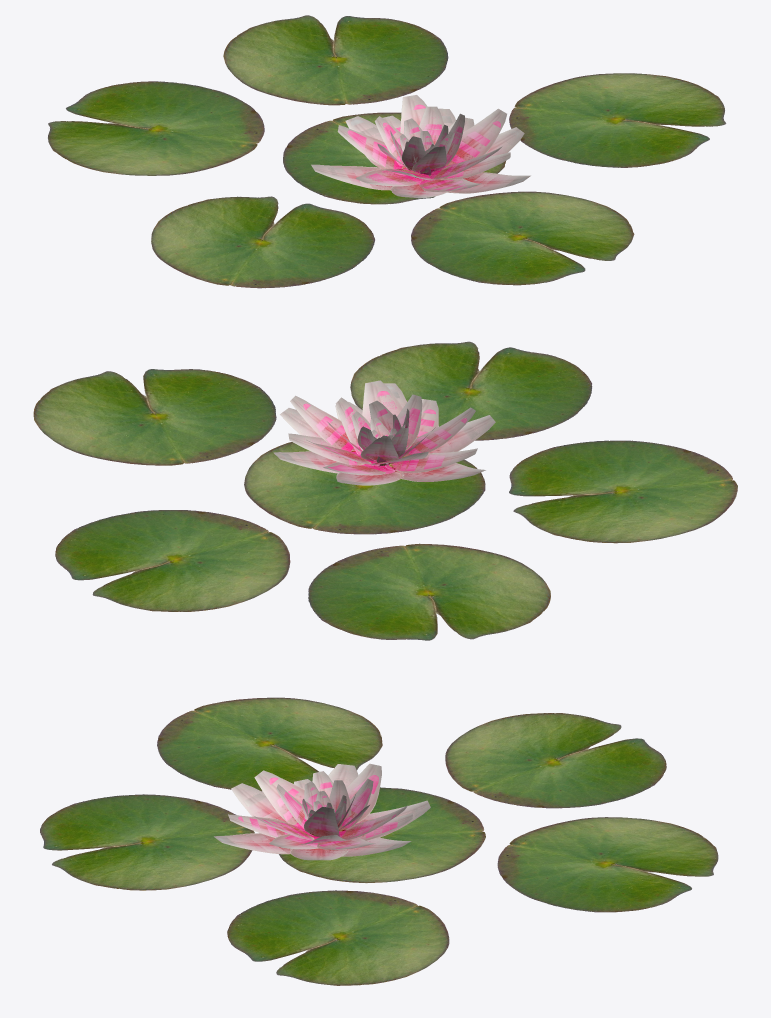
Rendered from Lokvanj sa cvetom.obj.
The picture shows the model from 3 angles, top to bottom: view 1: azimuth 30°, elevation 25°; view 2: azimuth 150°, elevation 25°; view 3: azimuth 270°, elevation 25°; orthographic projection. The views are drawn at different scales.
Visible parts, largest first — view 1: Mesh39 Group1 Model, Mesh38 Group1 Model, Mesh41 Group1 Model, Mesh40 Group1 Model, Mesh42 Group1 Model, Mesh37 Group1 Model, Mesh21 Group3 Group1 Model, Mesh20 Group3 Group1 Model, Mesh3 Group2 Group1 Model, Mesh2 Group2 Group1 Model, Mesh14 Group3 Group1 Model, Mesh16 Group3 Group1 Model (+10 smaller); view 2: Mesh40 Group1 Model, Mesh42 Group1 Model, Mesh38 Group1 Model, Mesh41 Group1 Model, Mesh39 Group1 Model, Mesh37 Group1 Model, Mesh21 Group3 Group1 Model, Mesh15 Group3 Group1 Model, Mesh14 Group3 Group1 Model, Mesh4 Group2 Group1 Model, Mesh3 Group2 Group1 Model, Mesh17 Group3 Group1 Model (+9 smaller); view 3: Mesh41 Group1 Model, Mesh42 Group1 Model, Mesh38 Group1 Model, Mesh39 Group1 Model, Mesh40 Group1 Model, Mesh37 Group1 Model, Mesh15 Group3 Group1 Model, Mesh4 Group2 Group1 Model, Mesh2 Group2 Group1 Model, Mesh20 Group3 Group1 Model, Mesh27 Group3 Group1 Model, Mesh16 Group3 Group1 Model (+5 smaller).
Boxes of the visible parts, x1,y1,x2,y2 form: Mesh39 Group1 Model: [411, 191, 634, 285]; Mesh38 Group1 Model: [48, 81, 264, 175]; Mesh41 Group1 Model: [223, 15, 448, 105]; Mesh40 Group1 Model: [151, 196, 374, 288]; Mesh42 Group1 Model: [509, 73, 726, 167]; Mesh37 Group1 Model: [283, 112, 505, 204]; Mesh21 Group3 Group1 Model: [445, 108, 506, 166]; Mesh20 Group3 Group1 Model: [337, 125, 406, 175]; Mesh3 Group2 Group1 Model: [311, 164, 392, 190]; Mesh2 Group2 Group1 Model: [447, 172, 530, 193]; Mesh14 Group3 Group1 Model: [356, 168, 422, 186]; Mesh16 Group3 Group1 Model: [400, 95, 427, 134]; Mesh40 Group1 Model: [509, 440, 737, 543]; Mesh42 Group1 Model: [33, 369, 276, 465]; Mesh38 Group1 Model: [308, 543, 550, 640]; Mesh41 Group1 Model: [55, 510, 290, 611]; Mesh39 Group1 Model: [350, 341, 592, 440]; Mesh37 Group1 Model: [244, 442, 485, 534]; Mesh21 Group3 Group1 Model: [290, 395, 355, 452]; Mesh15 Group3 Group1 Model: [386, 407, 475, 465]; Mesh14 Group3 Group1 Model: [380, 448, 477, 473]; Mesh4 Group2 Group1 Model: [428, 415, 495, 453]; Mesh3 Group2 Group1 Model: [401, 463, 485, 481]; Mesh17 Group3 Group1 Model: [362, 380, 403, 422]; Mesh41 Group1 Model: [497, 817, 718, 912]; Mesh42 Group1 Model: [227, 890, 449, 985]; Mesh38 Group1 Model: [445, 713, 666, 808]; Mesh39 Group1 Model: [40, 794, 254, 890]; Mesh40 Group1 Model: [157, 697, 382, 791]; Mesh37 Group1 Model: [279, 787, 485, 883]; Mesh15 Group3 Group1 Model: [254, 770, 304, 828]; Mesh4 Group2 Group1 Model: [231, 783, 285, 821]; Mesh2 Group2 Group1 Model: [214, 833, 290, 854]; Mesh20 Group3 Group1 Model: [346, 763, 381, 823]; Mesh27 Group3 Group1 Model: [304, 807, 339, 837]; Mesh16 Group3 Group1 Model: [339, 805, 407, 841].
Bounding box in the file's own units: 12.37 × 0.96 × 11.88.
3 materials, 3 textured.
